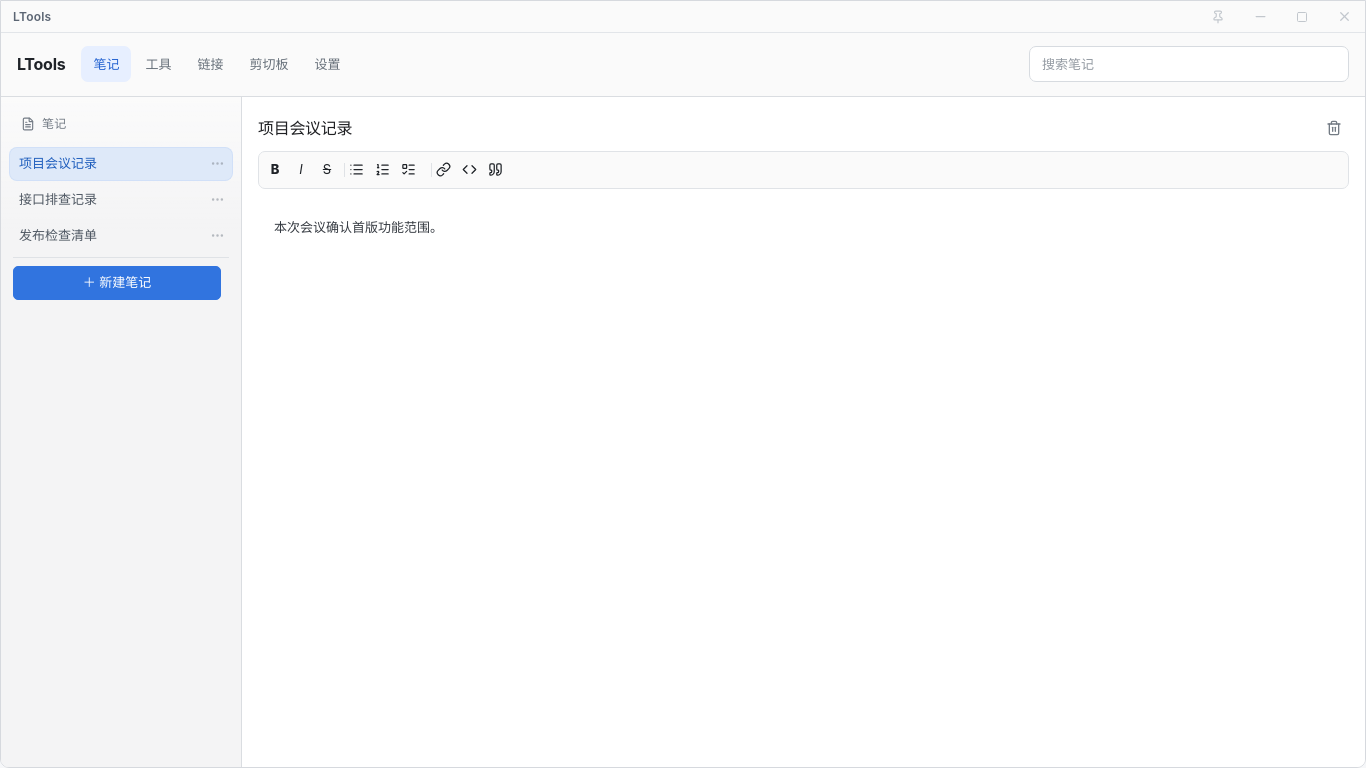
Scenario: notes static interactions › keeps the notes shell available after deleting every note
Click the button named "删除笔记" at {"x": 1334, "y": 128}, box [1319, 113, 1349, 143]
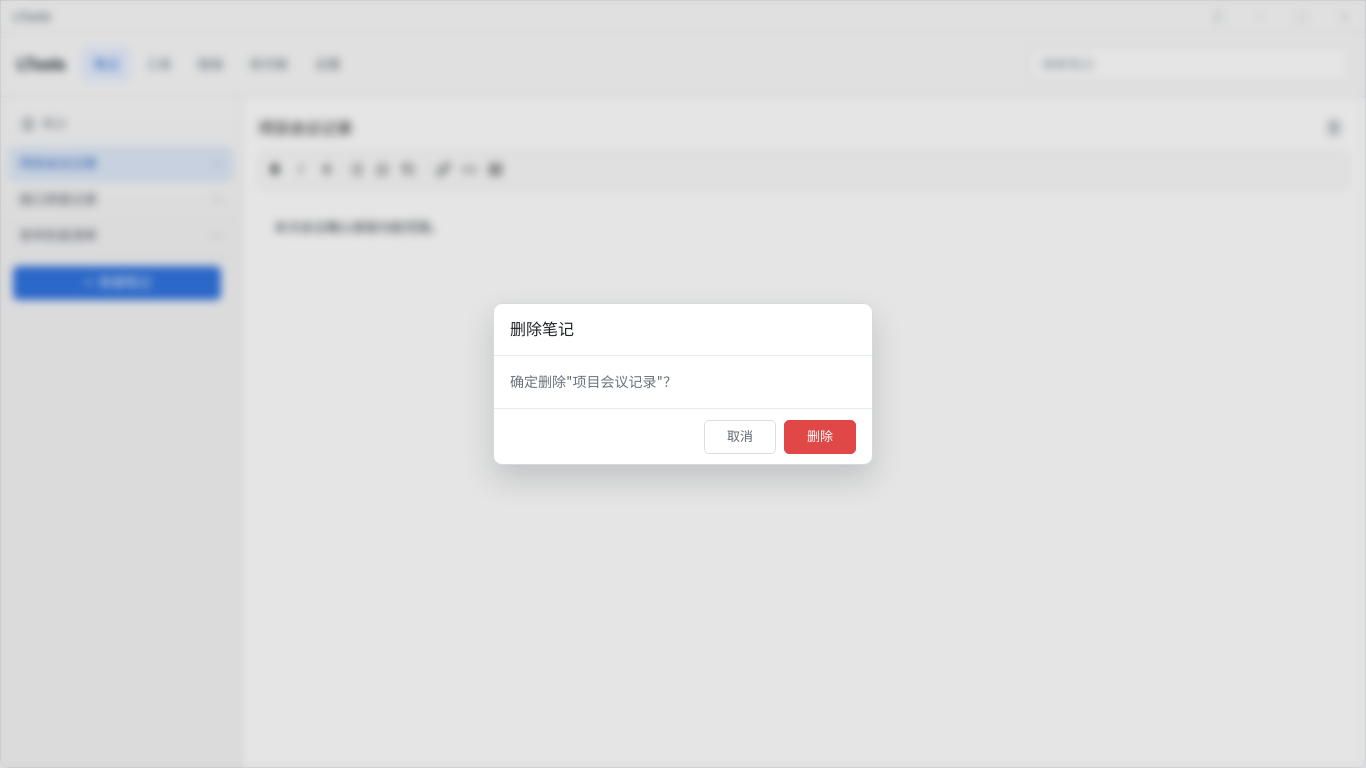
Click the button "删除" at {"x": 820, "y": 436}, box [784, 420, 856, 454]
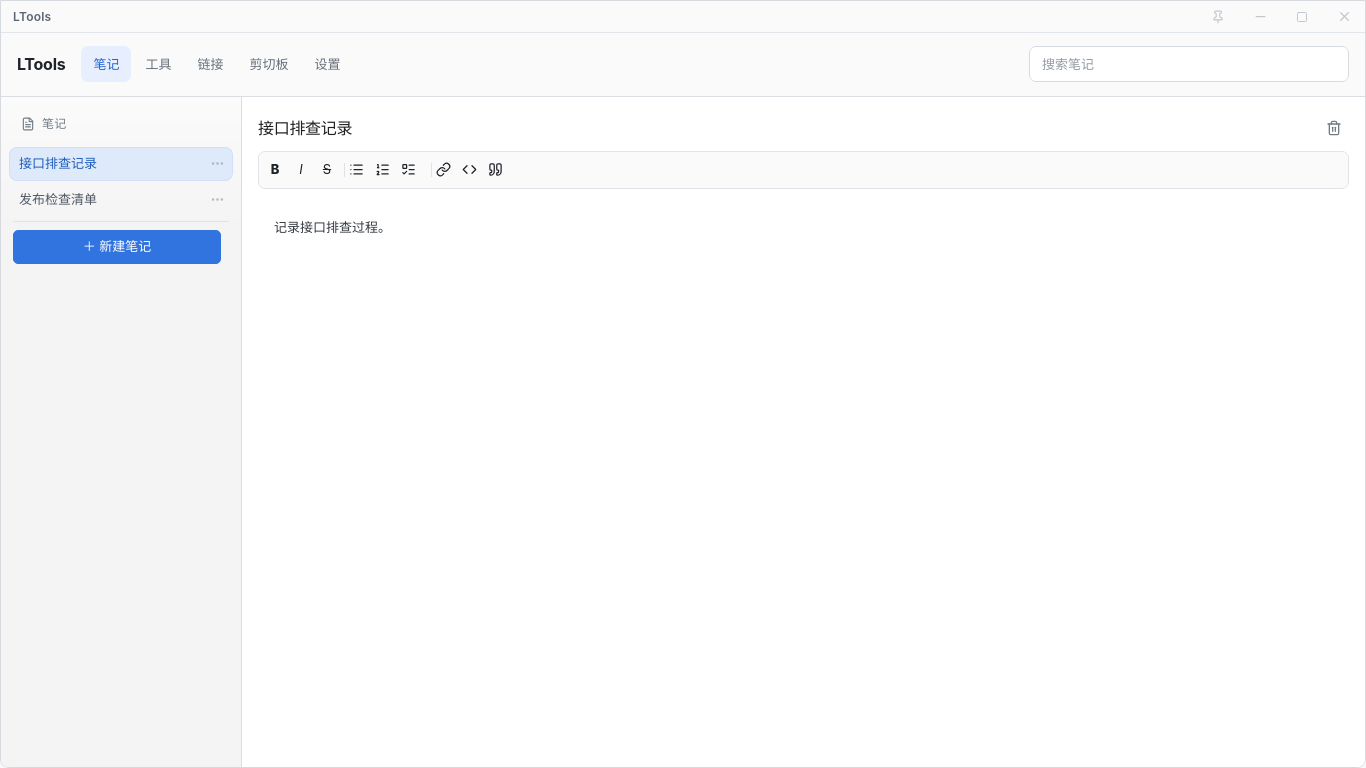
Click the button named "删除笔记" at {"x": 1334, "y": 128}, box [1319, 113, 1349, 143]
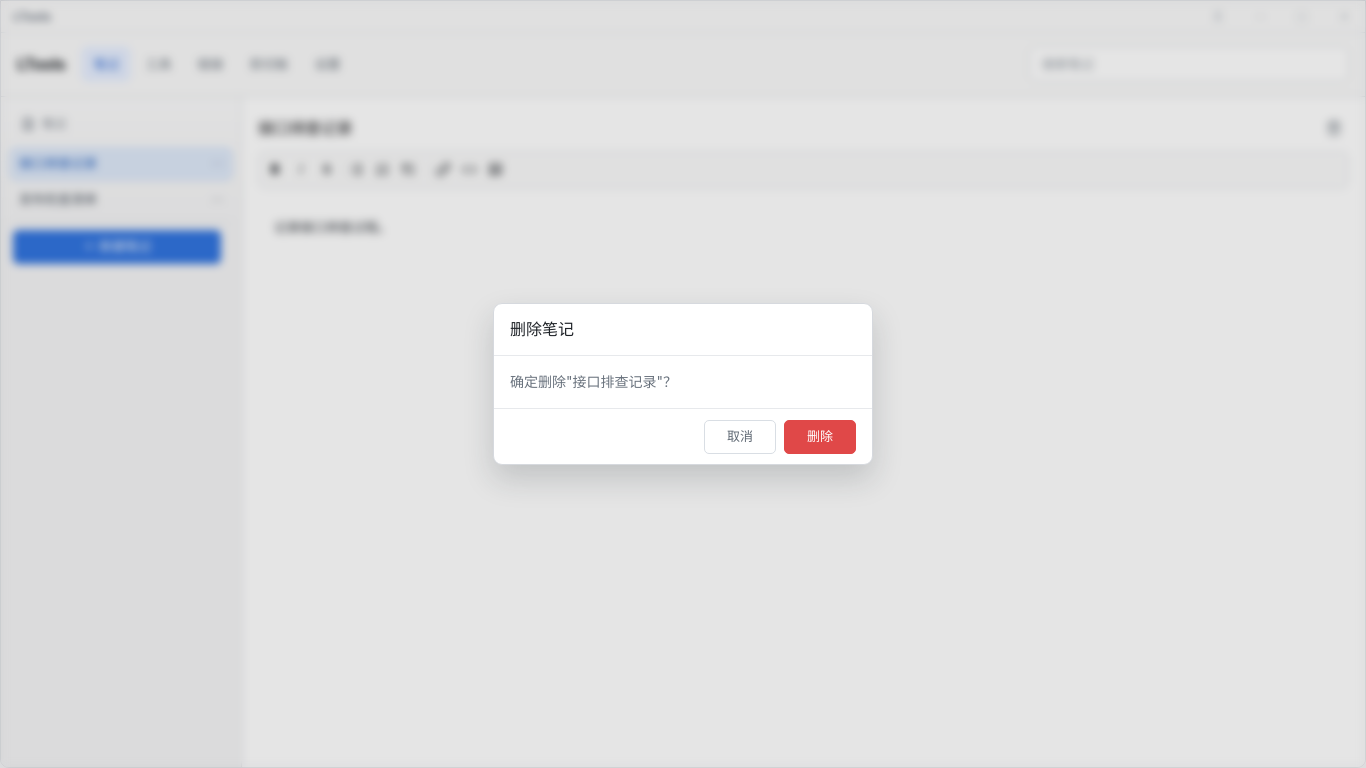
Click the button "删除" at {"x": 820, "y": 436}, box [784, 420, 856, 454]
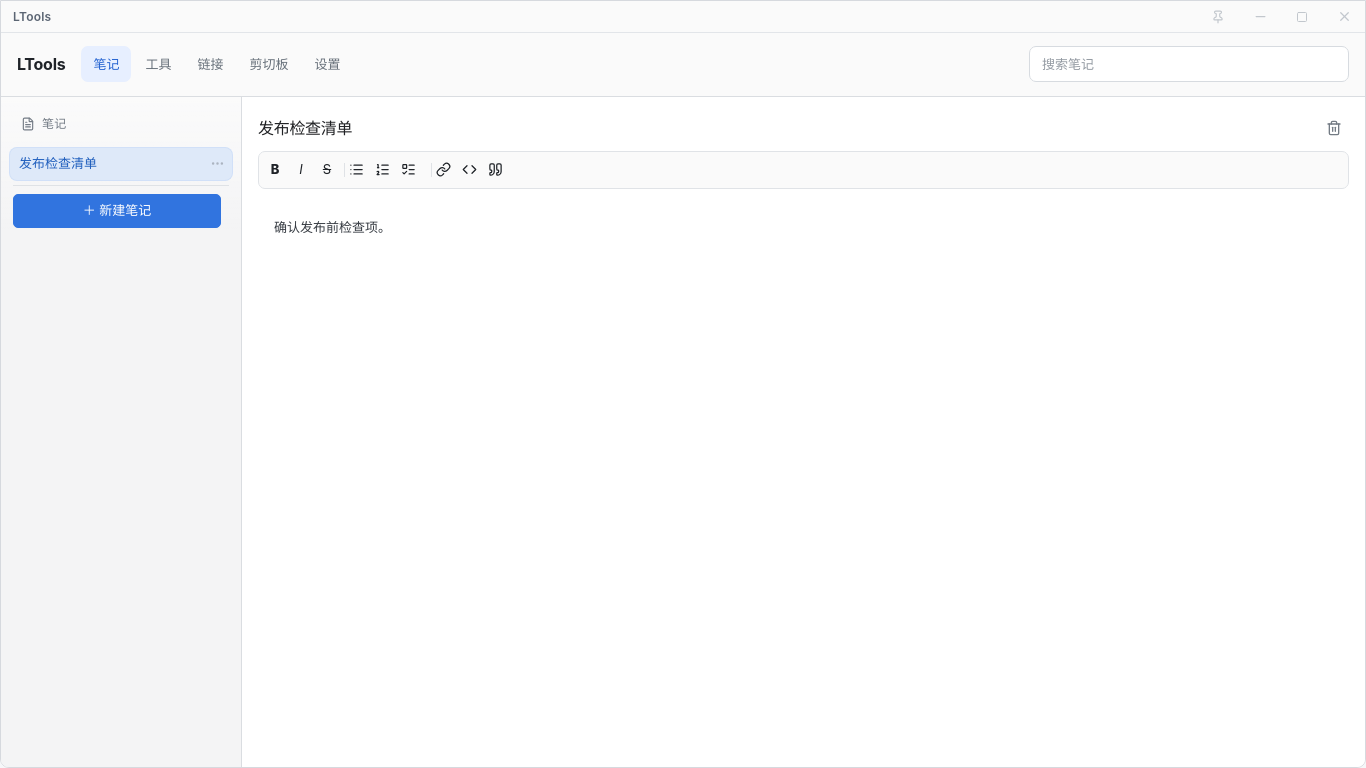
Click the button named "删除笔记" at {"x": 1334, "y": 128}, box [1319, 113, 1349, 143]
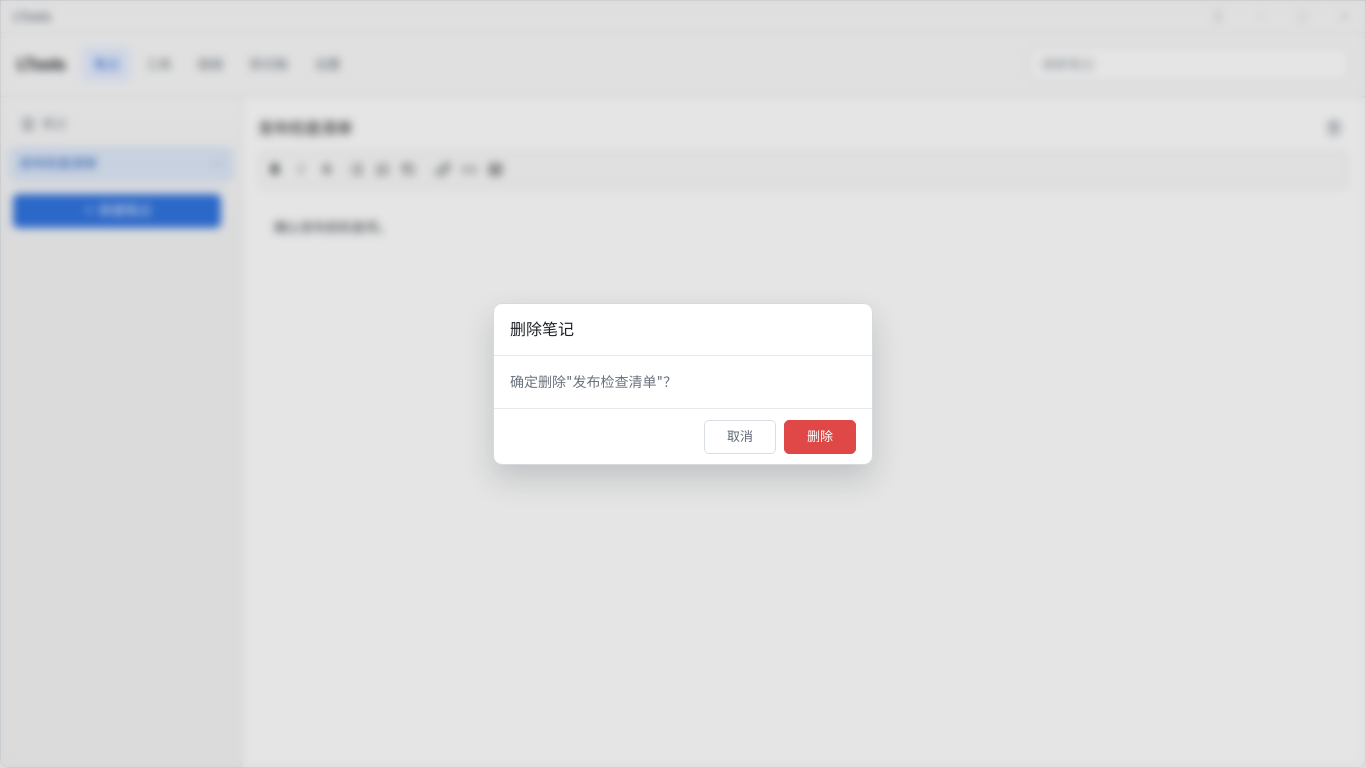
Click the button "删除" at {"x": 820, "y": 436}, box [784, 420, 856, 454]
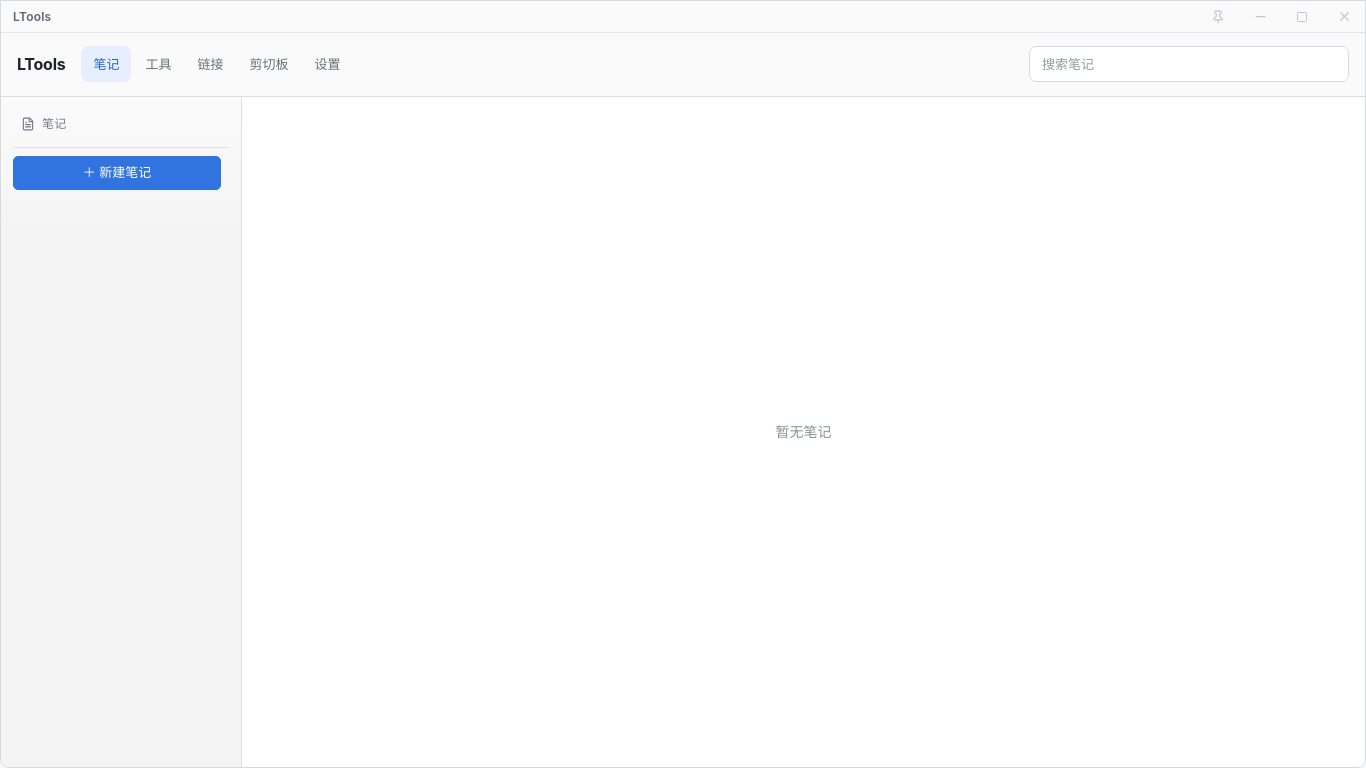
expect the button "＋ 新建笔记" is shown: met, box [13, 156, 221, 190]
expect the text "暂无笔记" is shown: met, box [776, 423, 832, 440]
